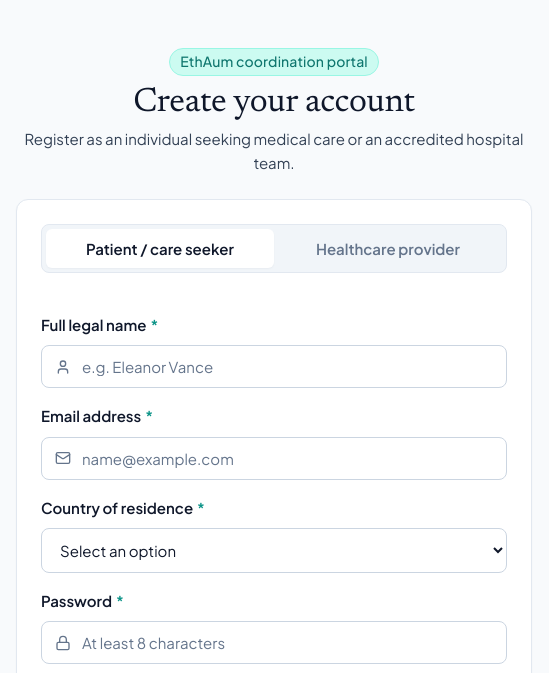
Test: Page Views & Routing › renders SignUpPage and toggles role with validation
This screenshot has width=549, height=673.
Expected: the heading "Create your account" is shown, [133,86,415,120]
Expected: the tab "Patient / care seeker" is shown, [46,229,274,268]
Note: Toggle to Provider role
Click the tab "Healthcare provider".
click(388, 249)  # box [274,229,502,268]
(page scrolled)
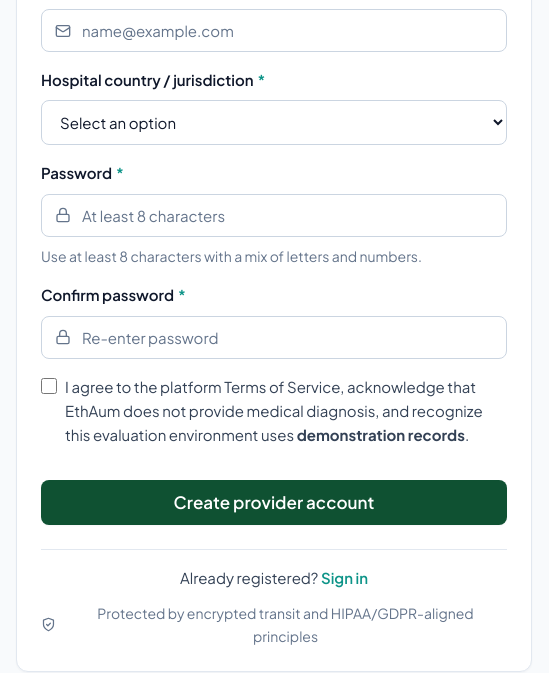
Note: Trigger validation
Click the button "Create provider account".
click(274, 502)  # box [41,480,507,524]
(page scrolled)
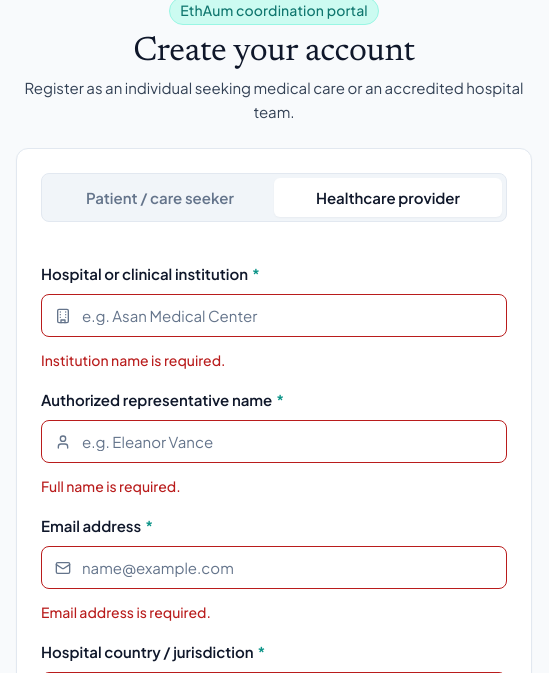
Expected: the text "Institution name is required." is shown, [41,352,226,370]
